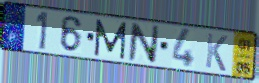1: (34, 11, 50, 52)
4: (170, 26, 197, 71)
6: (58, 15, 84, 55)
K: (204, 32, 229, 74)
M: (93, 18, 129, 61)
N: (126, 22, 161, 66)
